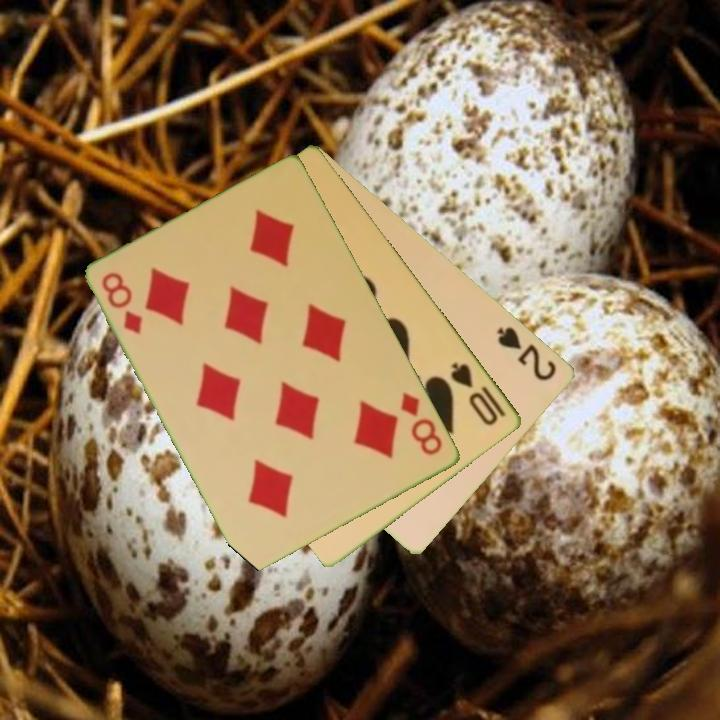10s: (447, 358, 510, 429)
2s: (493, 323, 560, 384)
8d: (397, 388, 446, 459), (98, 268, 147, 337)
